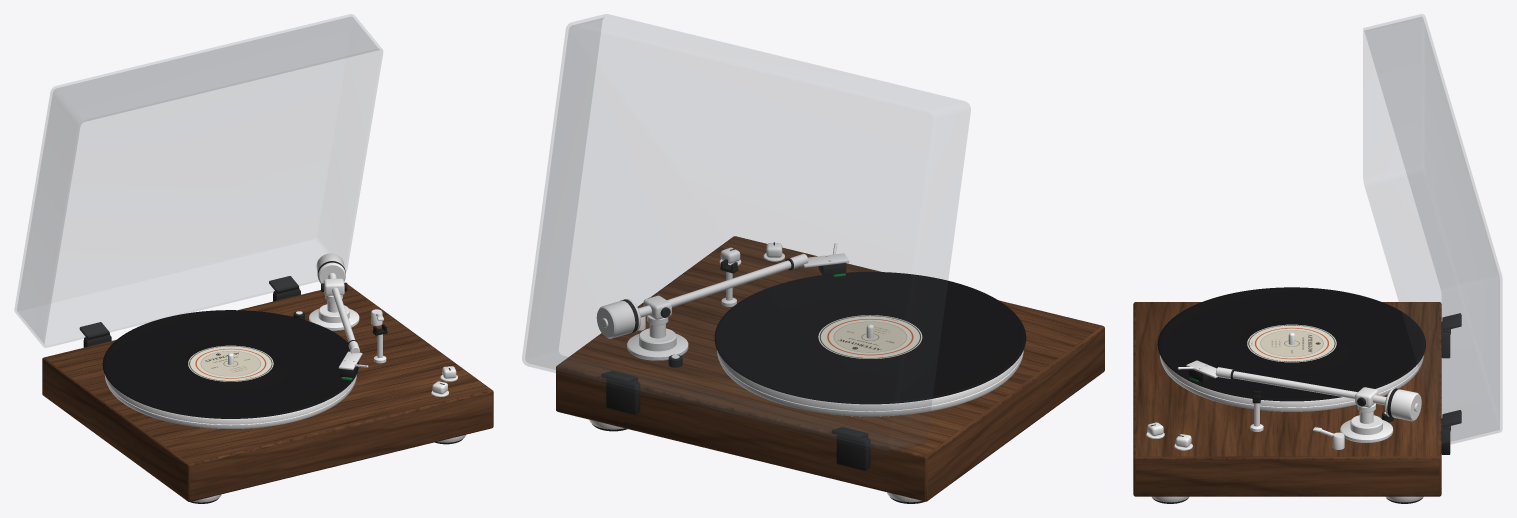
File: Vinyl3.glb
The picture shows the model from 3 angles, left to right: view 1: azimuth 30°, elevation 25°; view 2: azimuth 150°, elevation 25°; view 3: azimuth 270°, elevation 25°; orthographic projection. The views are drawn at different scales.
Visible parts, largest first — view 1: DustCover, Plinth, Turntable_Disc, Record_Label, Tonearm, Hardware; view 2: DustCover, Plinth, Turntable_Disc, Hardware, Tonearm, Record_Label; view 3: DustCover, Plinth, Turntable_Disc, Tonearm, Hardware, Record_Label.
Part boxes in pixels (x1,y1,x2,y2): DustCover: [15, 14, 382, 347]; Plinth: [42, 284, 493, 501]; Turntable_Disc: [102, 310, 358, 428]; Record_Label: [188, 345, 273, 381]; Tonearm: [316, 253, 368, 380]; Hardware: [83, 290, 465, 503]; DustCover: [522, 14, 970, 452]; Plinth: [556, 236, 1104, 501]; Turntable_Disc: [714, 272, 1026, 416]; Hardware: [589, 259, 924, 503]; Tonearm: [596, 243, 849, 338]; Record_Label: [818, 315, 922, 358]; DustCover: [1363, 14, 1501, 445]; Plinth: [1133, 302, 1441, 496]; Turntable_Disc: [1157, 287, 1425, 411]; Tonearm: [1177, 360, 1421, 421]; Hardware: [1151, 322, 1450, 503]; Record_Label: [1247, 324, 1336, 362].
Bounding box in the file's own units: 0.42 × 0.4311 × 0.4192.
9 materials, 2 textured.
